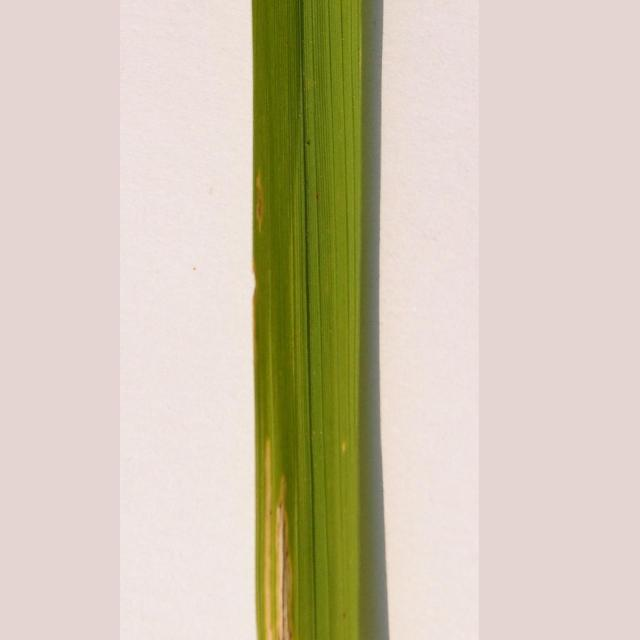Bacterial leaf blight: (258, 431, 310, 640), (251, 167, 285, 260), (332, 430, 357, 464)
